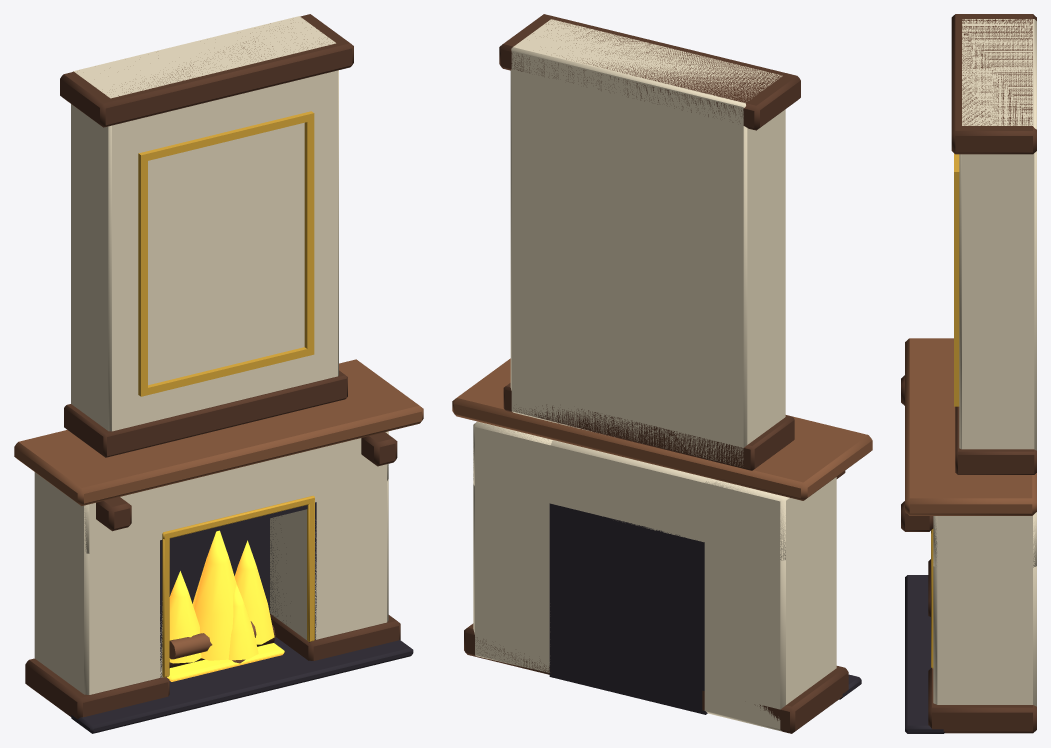
The model's file is fireplace.glb.
The picture shows the model from 3 angles, left to right: view 1: azimuth 30°, elevation 25°; view 2: azimuth 150°, elevation 25°; view 3: azimuth 270°, elevation 25°; orthographic projection. The views are drawn at different scales.
Visible parts, largest first — view 1: fireplace; view 2: fireplace; view 3: fireplace.
Part boxes in pixels (box(x1,y1,x2,y2)): fireplace: box(14, 14, 423, 733); fireplace: box(452, 14, 872, 733); fireplace: box(901, 14, 1036, 733).
Bounding box in the file's own units: 3 × 5 × 1.05.
